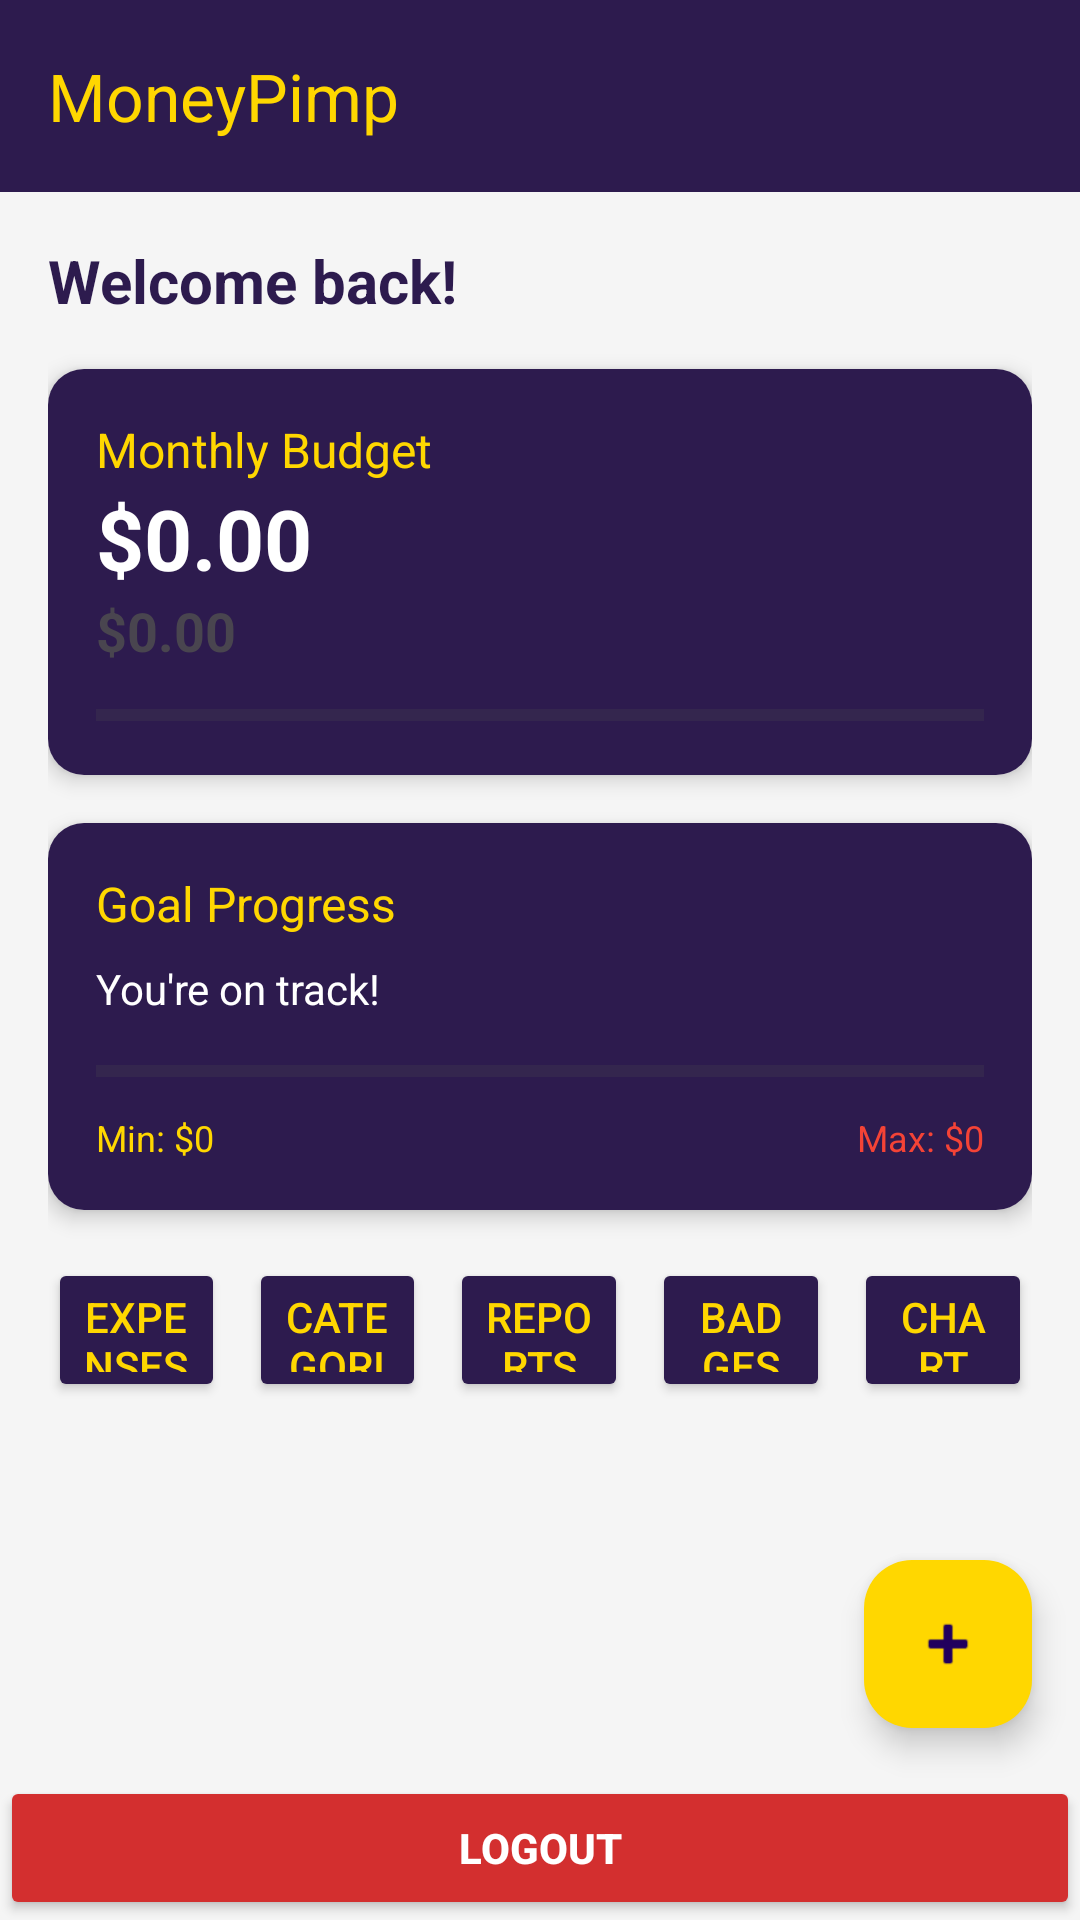

Where to tap for icons on this 1080 x 1920 app screen, as point (x, y):
add: point (948, 1644)
